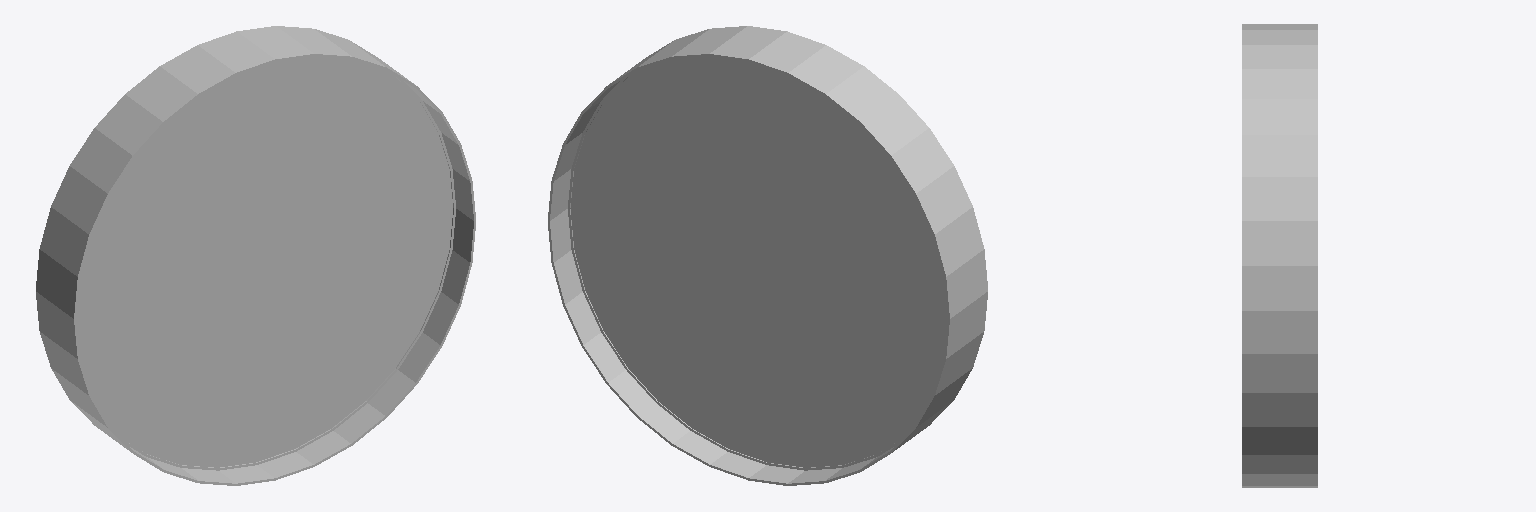
File: roundWindow.obj
3 renders of one model, left to right at view 1: azimuth 30°, elevation 25°; view 2: azimuth 150°, elevation 25°; view 3: azimuth 270°, elevation 25°, orthographic.
Visible parts, largest first — view 1: sweethome3d_window_pane, border, mastic; view 2: sweethome3d_window_pane, border, mastic; view 3: border.
Part boxes in pixels (x1,y1,x2,y2): sweethome3d_window_pane: (76,56,452,467); border: (36,26,475,485); mastic: (124,69,455,470); sweethome3d_window_pane: (570,56,947,467); border: (548,26,987,485); mastic: (568,69,899,470); border: (1242,24,1317,487).
Size of the model in its own units: 91 by 91 by 15.